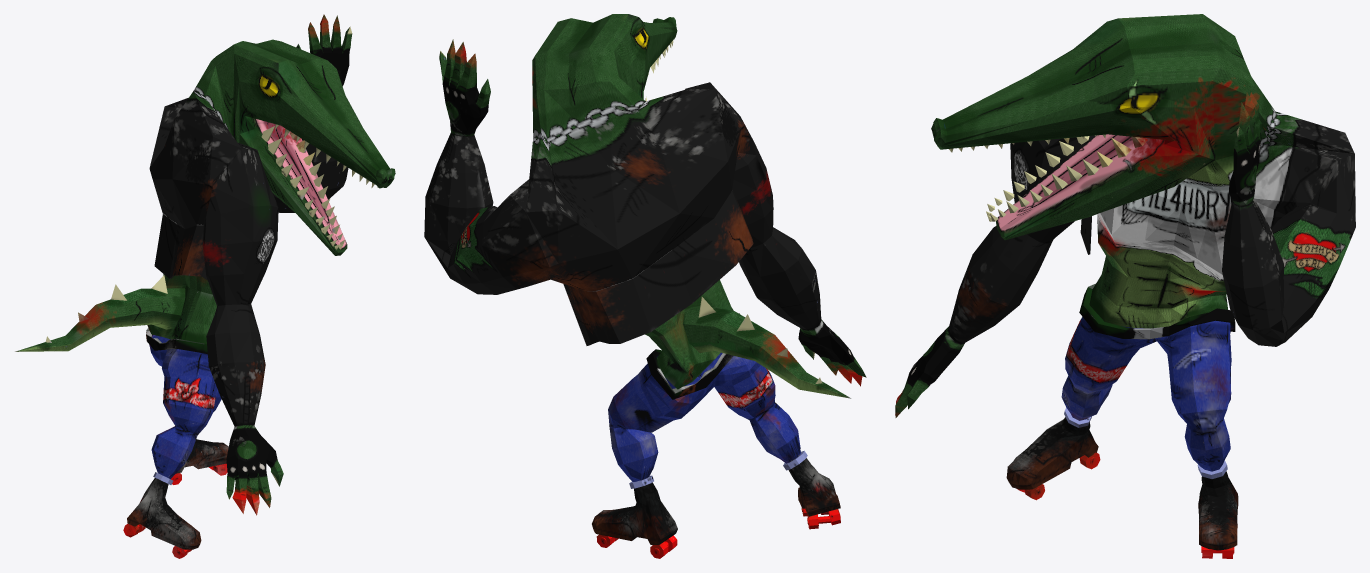
The model's file is cocodrilaBonesSelect_000058.obj.
The picture shows the model from 3 angles, left to right: view 1: azimuth 30°, elevation 25°; view 2: azimuth 150°, elevation 25°; view 3: azimuth 270°, elevation 25°; orthographic projection. The views are drawn at different scales.
Parts seen in each view (by area): view 1: Crocodile.002_Cylinder.002; view 2: Crocodile.002_Cylinder.002; view 3: Crocodile.002_Cylinder.002.
Part boxes in pixels (left/top/right/bottom): Crocodile.002_Cylinder.002: left=15, top=14, right=395, bottom=558; Crocodile.002_Cylinder.002: left=424, top=14, right=866, bottom=558; Crocodile.002_Cylinder.002: left=895, top=14, right=1355, bottom=558.
Bounding box in the file's own units: 5.24 × 6.17 × 4.62.
